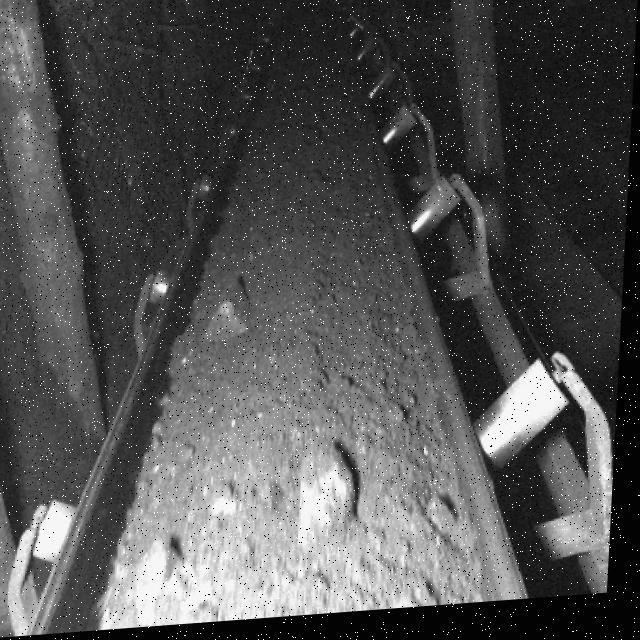large_sized_coal: (296, 450, 366, 545), (137, 540, 197, 625), (210, 288, 262, 342)
